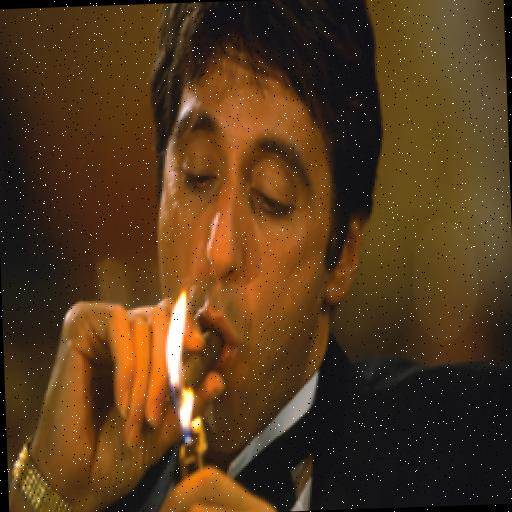membakar rokok: (108, 172, 294, 485)
